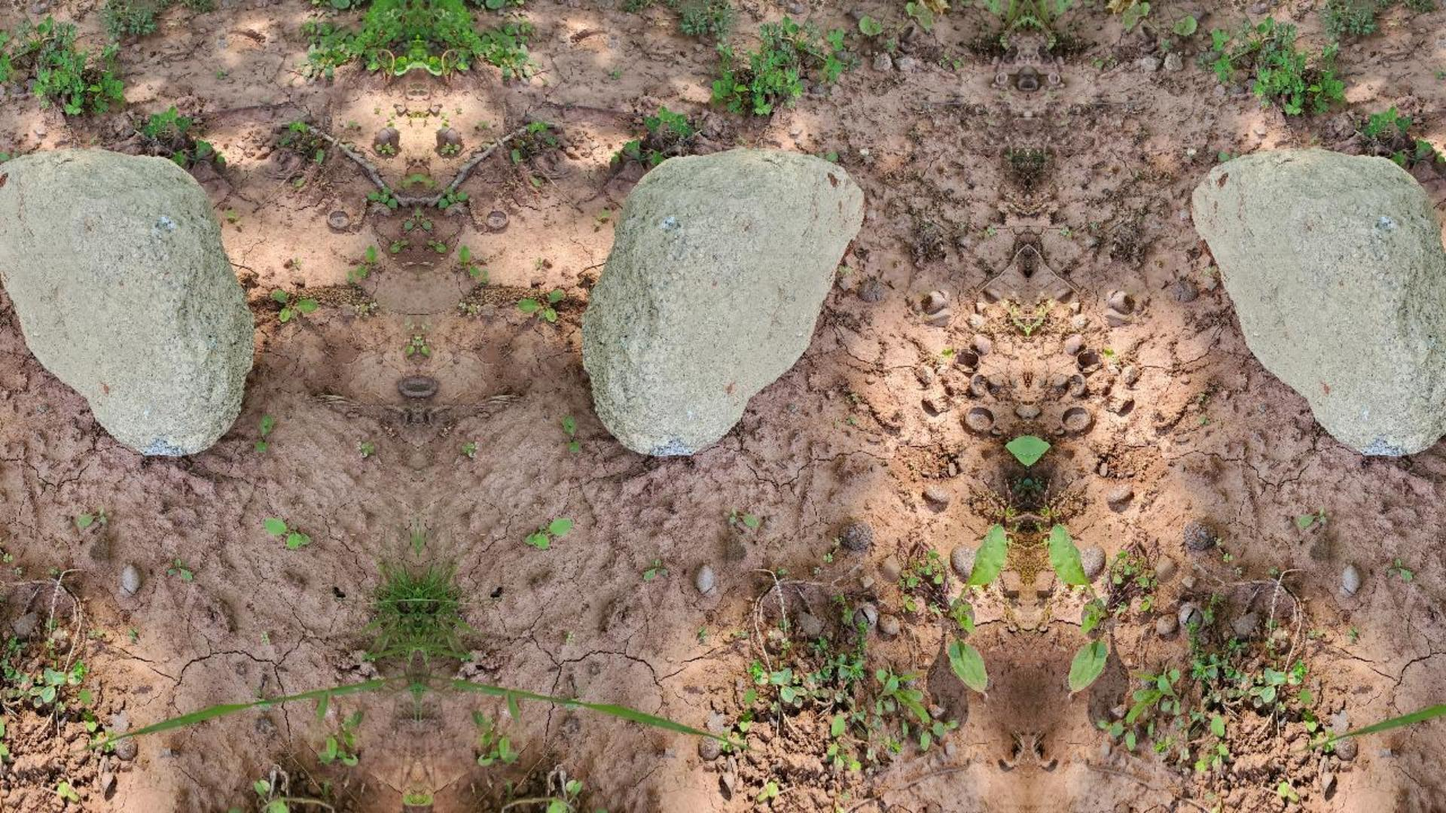rock: (583, 149, 863, 455), (1192, 149, 1445, 455), (0, 149, 252, 455)
